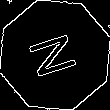N_E: (25, 28, 85, 82)
